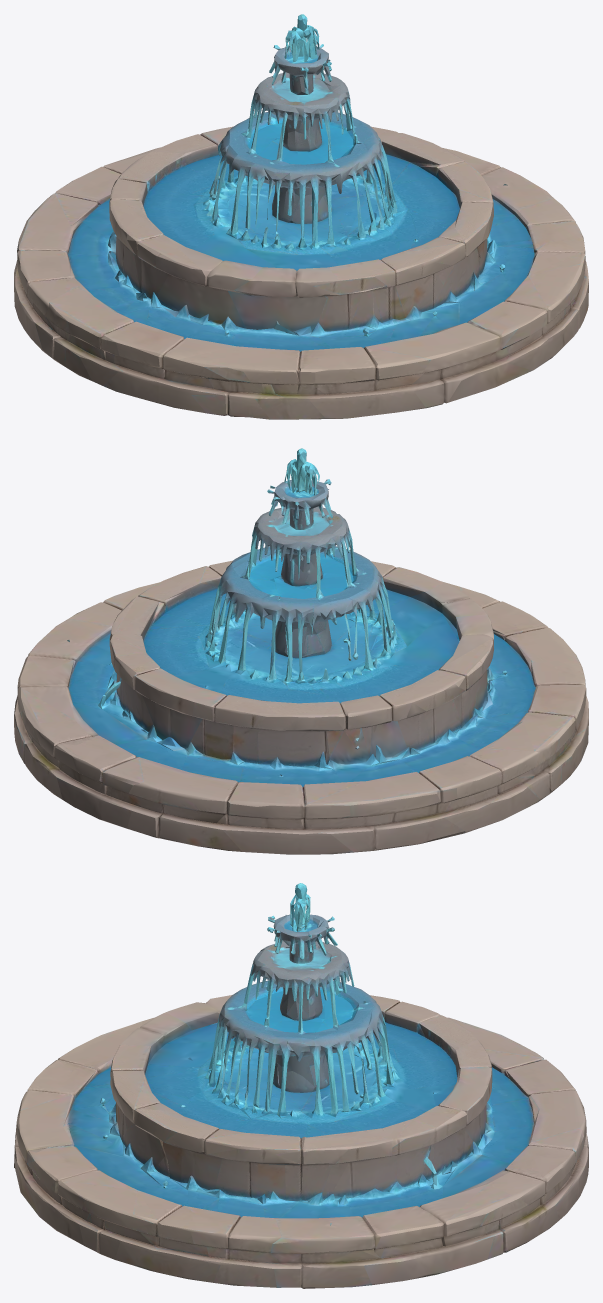
Rendered from fountain.glb.
3 renders of one model, top to bottom at view 1: azimuth 30°, elevation 25°; view 2: azimuth 150°, elevation 25°; view 3: azimuth 270°, elevation 25°, orthographic.
Size of the model in its own units: 4.02 by 2.2 by 4.02.
Materials: 1 (1 with a texture image).
